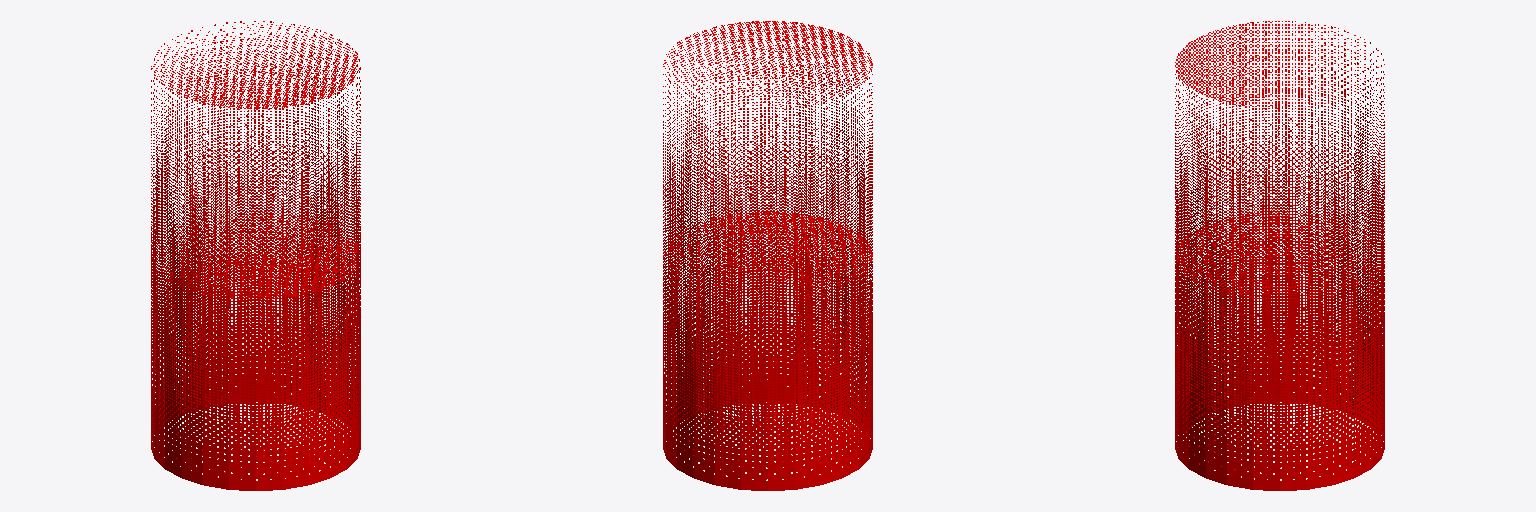
The picture shows the model from 3 angles: view 1: azimuth 30°, elevation 25°; view 2: azimuth 150°, elevation 25°; view 3: azimuth 270°, elevation 25°; orthographic projection.
Parts seen in each view (by area): view 1: entity0_brush1, entity0_brush0; view 2: entity0_brush1, entity0_brush0; view 3: entity0_brush1, entity0_brush0.
Part boxes in pixels (x1,y1,x2,y2): entity0_brush1: (151,212,360,490); entity0_brush0: (151,21,360,299); entity0_brush1: (663,212,872,490); entity0_brush0: (663,21,872,299); entity0_brush1: (1175,212,1384,490); entity0_brush0: (1175,21,1384,299).
Bounding box in the file's own units: 64 × 128 × 64.
Materials: 1 (1 with a texture image).